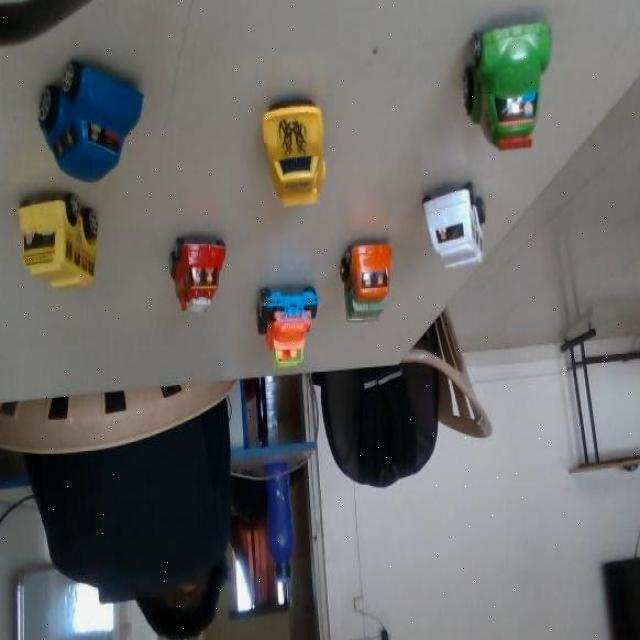car: (419, 0, 623, 195), (221, 68, 383, 217), (405, 153, 519, 294), (54, 58, 148, 181), (240, 279, 322, 384), (336, 222, 404, 341), (37, 194, 114, 282), (172, 224, 236, 316)
